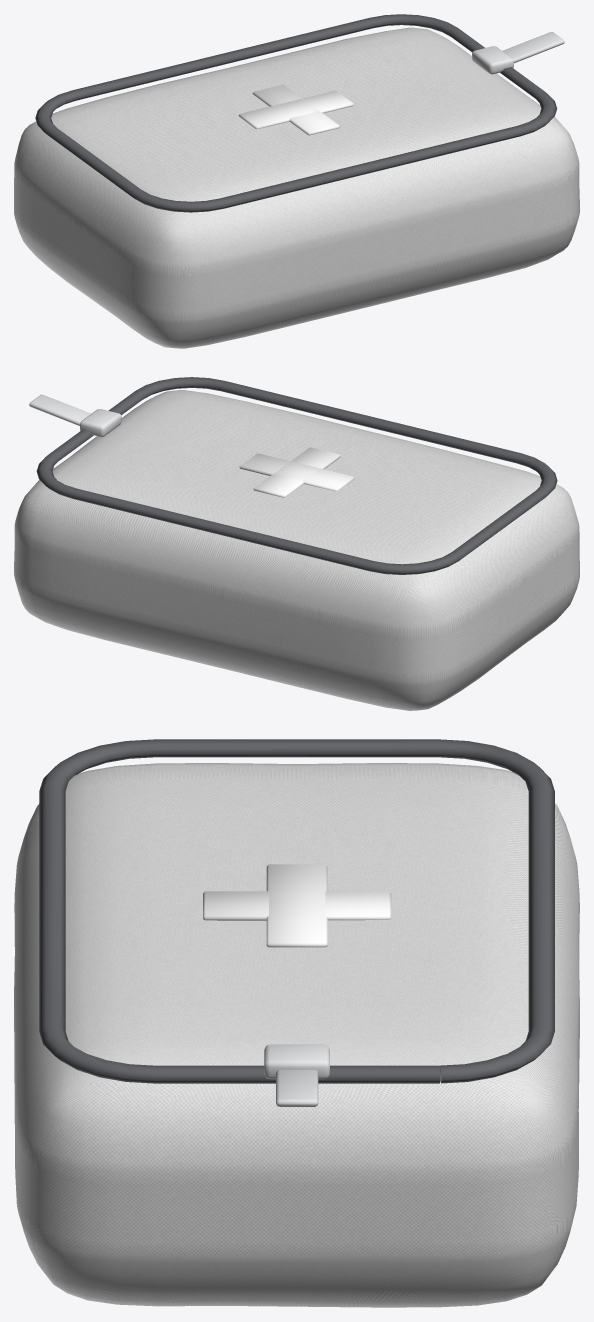
Rendered from first_aid.glb.
3 renders of one model, top to bottom at view 1: azimuth 30°, elevation 25°; view 2: azimuth 150°, elevation 25°; view 3: azimuth 270°, elevation 25°, orthographic. The views are drawn at different scales.
Visible parts, largest first — view 1: aid_body, aid_zip, aid_cross_a, aid_cross_b, aid_pull, aid_slider; view 2: aid_body, aid_zip, aid_cross_a, aid_cross_b, aid_pull, aid_slider; view 3: aid_body, aid_zip, aid_cross_a, aid_cross_b, aid_slider, aid_pull.
Boxes of the visible parts, <box> form: aid_body: <box>14,27,579,348</box>; aid_zip: <box>35,14,557,212</box>; aid_cross_a: <box>238,90,353,128</box>; aid_cross_b: <box>252,84,339,135</box>; aid_pull: <box>503,32,564,63</box>; aid_slider: <box>472,46,513,74</box>; aid_body: <box>14,390,579,710</box>; aid_zip: <box>36,377,557,574</box>; aid_cross_a: <box>239,453,354,491</box>; aid_cross_b: <box>253,447,340,497</box>; aid_pull: <box>29,394,90,425</box>; aid_slider: <box>80,409,121,436</box>; aid_body: <box>14,763,579,1307</box>; aid_zip: <box>39,739,554,1083</box>; aid_cross_a: <box>266,864,327,947</box>; aid_cross_b: <box>203,891,391,920</box>; aid_slider: <box>264,1044,329,1079</box>; aid_pull: <box>276,1070,318,1106</box>.
Size of the model in its own units: 19.71 by 6.46 by 12.03.
4 materials, 1 textured.
